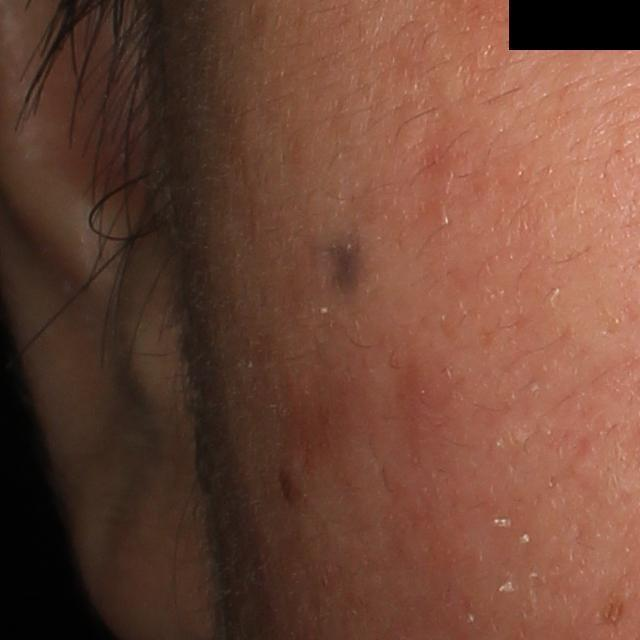nevus: (278, 461, 305, 514)
other: (315, 226, 372, 311)
